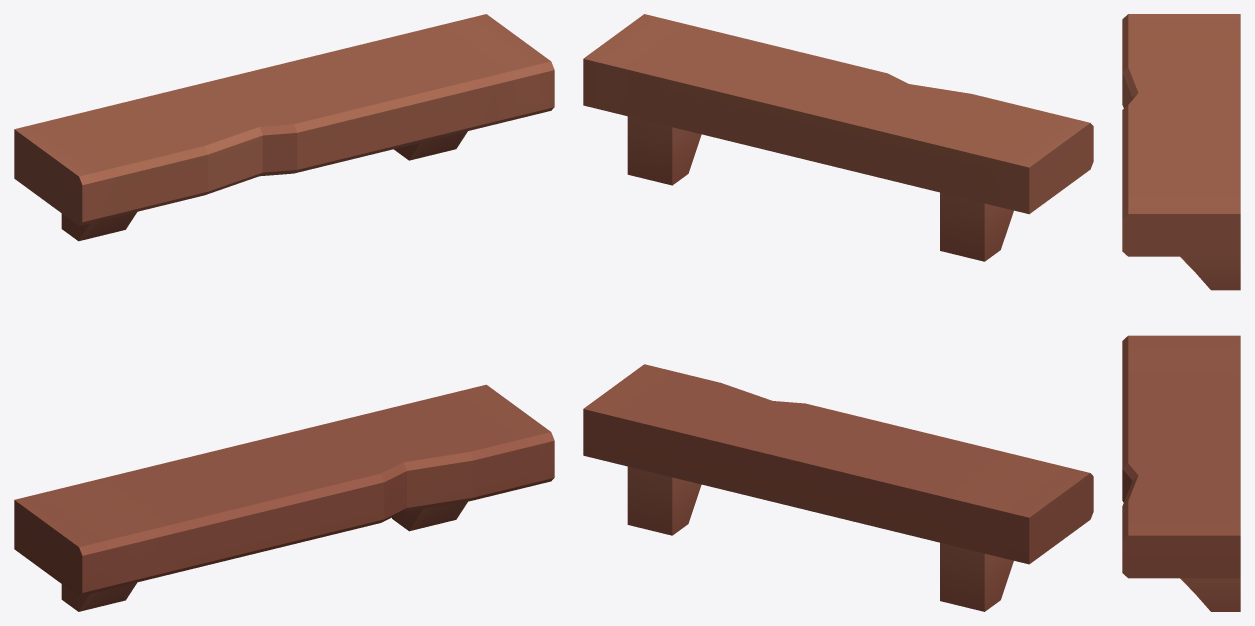
The model's file is d_kaykit_rayonnage.glb.
3 views of the same model, side by side, from view 1: azimuth 30°, elevation 25°; view 2: azimuth 150°, elevation 25°; view 3: azimuth 270°, elevation 25° (orthographic). The views are drawn at different scales.
Visible parts, largest first — view 1: d_kaykit_rayonnage; view 2: d_kaykit_rayonnage; view 3: d_kaykit_rayonnage.
Boxes of the visible parts, <box> form: d_kaykit_rayonnage: <box>14,14,554,611</box>; d_kaykit_rayonnage: <box>583,14,1093,611</box>; d_kaykit_rayonnage: <box>1122,14,1240,611</box>.
Bounding box in the file's own units: 2 × 1.95 × 0.5001.
Materials: 1 (1 with a texture image).
